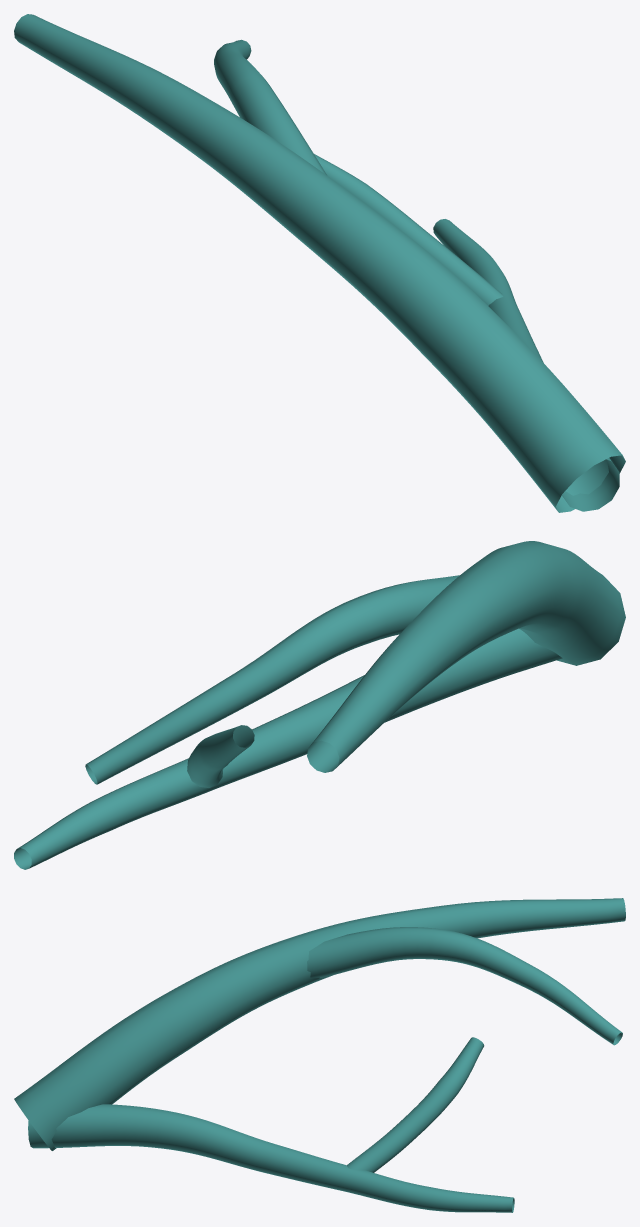
3 renders of one model, top to bottom at view 1: azimuth 30°, elevation 25°; view 2: azimuth 150°, elevation 25°; view 3: azimuth 270°, elevation 25°, orthographic. The views are drawn at different scales.
Visible parts, largest first — view 1: 右肺后底段支气管（第10段）; view 2: 右肺后底段支气管（第10段）; view 3: 右肺后底段支气管（第10段）.
Part boxes in pixels (bbox=[...]): 右肺后底段支气管（第10段）: bbox=[14, 14, 625, 512]; 右肺后底段支气管（第10段）: bbox=[14, 541, 625, 869]; 右肺后底段支气管（第10段）: bbox=[14, 898, 625, 1212].
Size of the model in its own units: 0.0595 by 0.0409 by 0.116.
